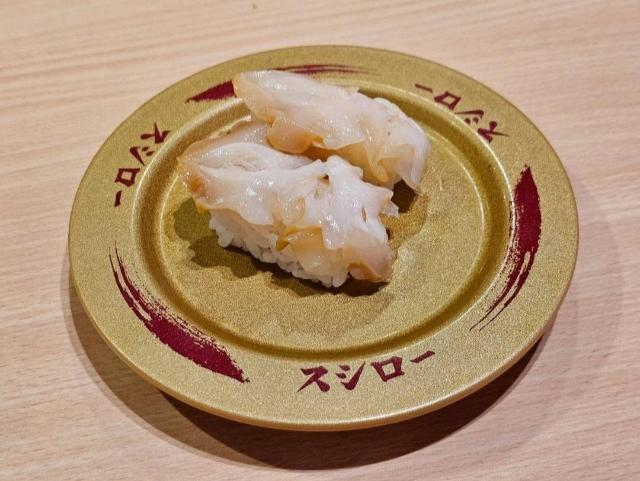jangold: (90, 66, 568, 391)
